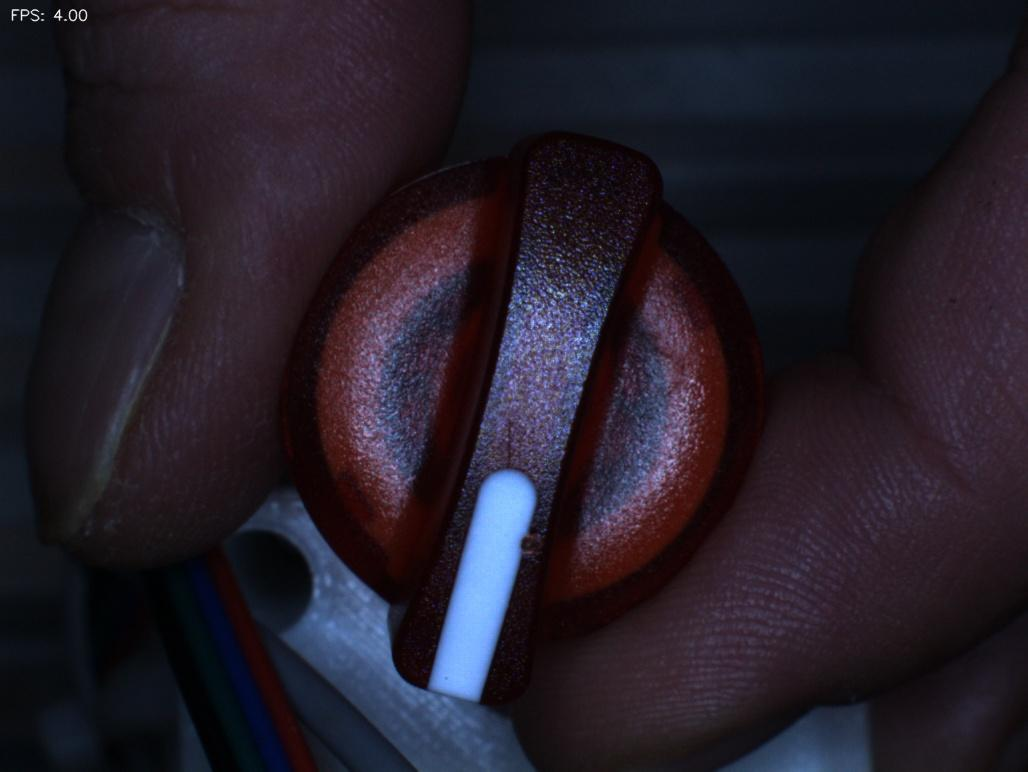Choc: (496, 510, 575, 586)
